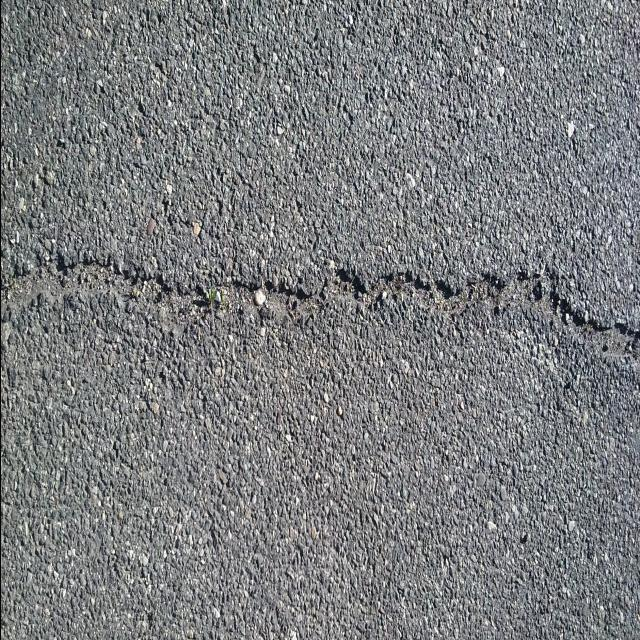Crack: (0, 244, 640, 377)
